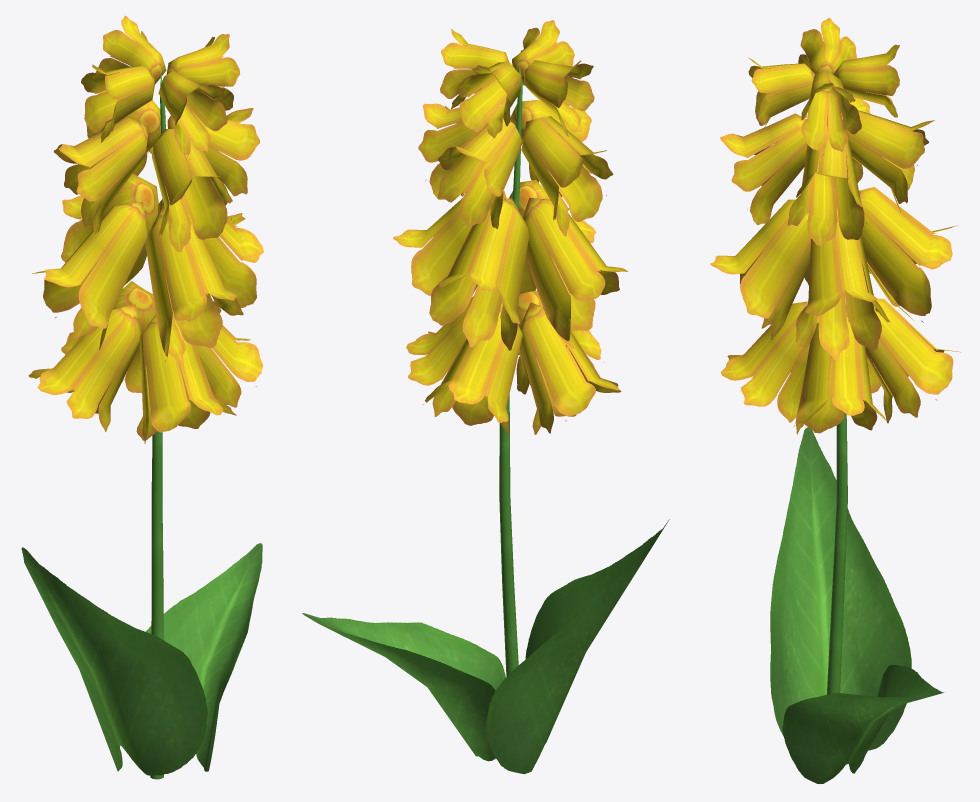
Rendered from Flower_4_Single.gltf.
3 renders of one model, left to right at view 1: azimuth 30°, elevation 25°; view 2: azimuth 150°, elevation 25°; view 3: azimuth 270°, elevation 25°, orthographic. The views are drawn at different scales.
Parts seen in each view (by area): view 1: Flower_4_Single; view 2: Flower_4_Single; view 3: Flower_4_Single.
Boxes of the visible parts, <box> form: Flower_4_Single: <box>21,15,263,779</box>; Flower_4_Single: <box>302,20,669,774</box>; Flower_4_Single: <box>710,17,961,783</box>.
Bounding box in the file's own units: 1.07 × 2.42 × 0.7842.
Materials: 2 (2 with a texture image).
